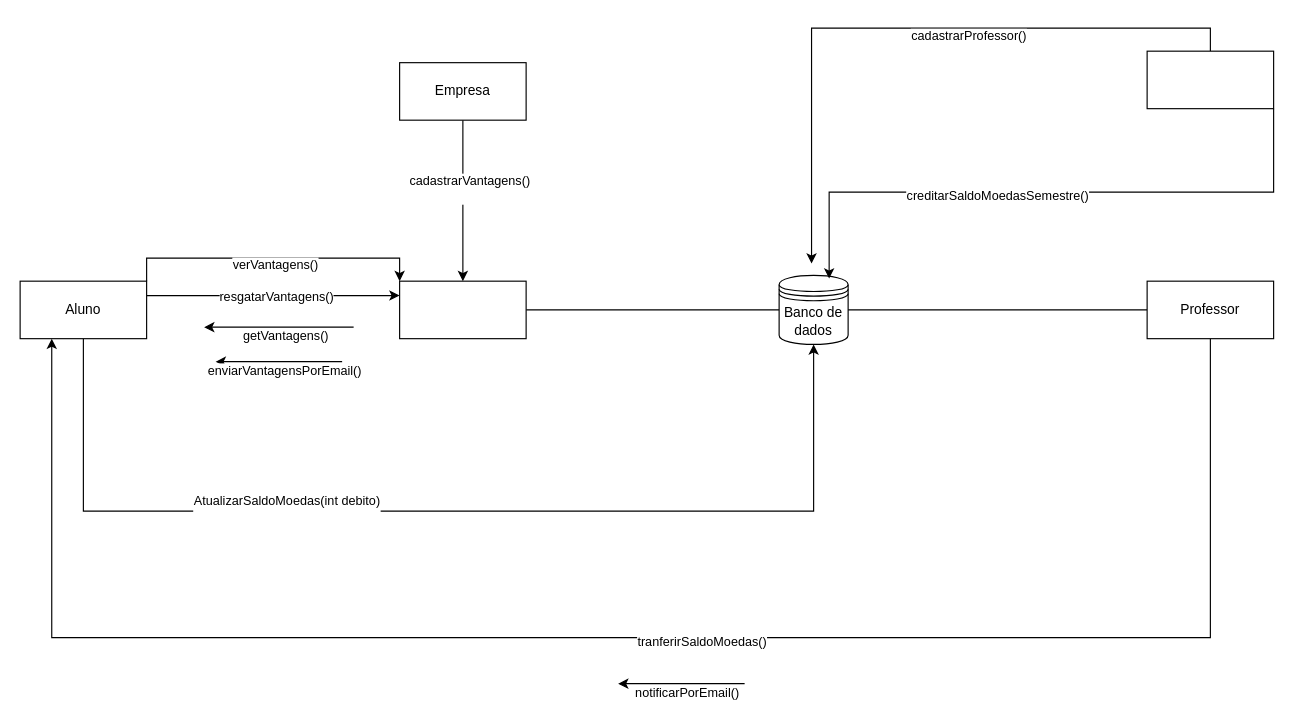
Some shapes in this 1303 by 720 pixel diagram are drawn without their labels. The box of each missing label's shape, as (x1, y1, x2, y2) in pixels:
Instituição: (1146, 50, 1274, 109)
Vantagens: (398, 280, 526, 339)
